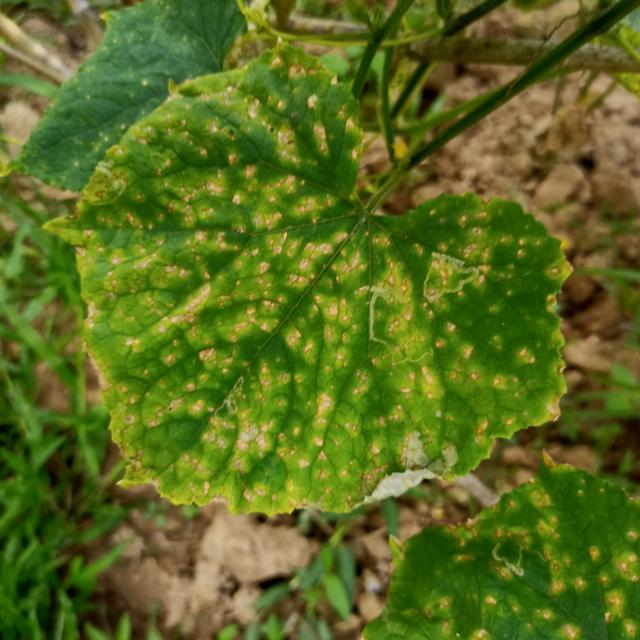disease_cucumber: (76, 66, 554, 507)
